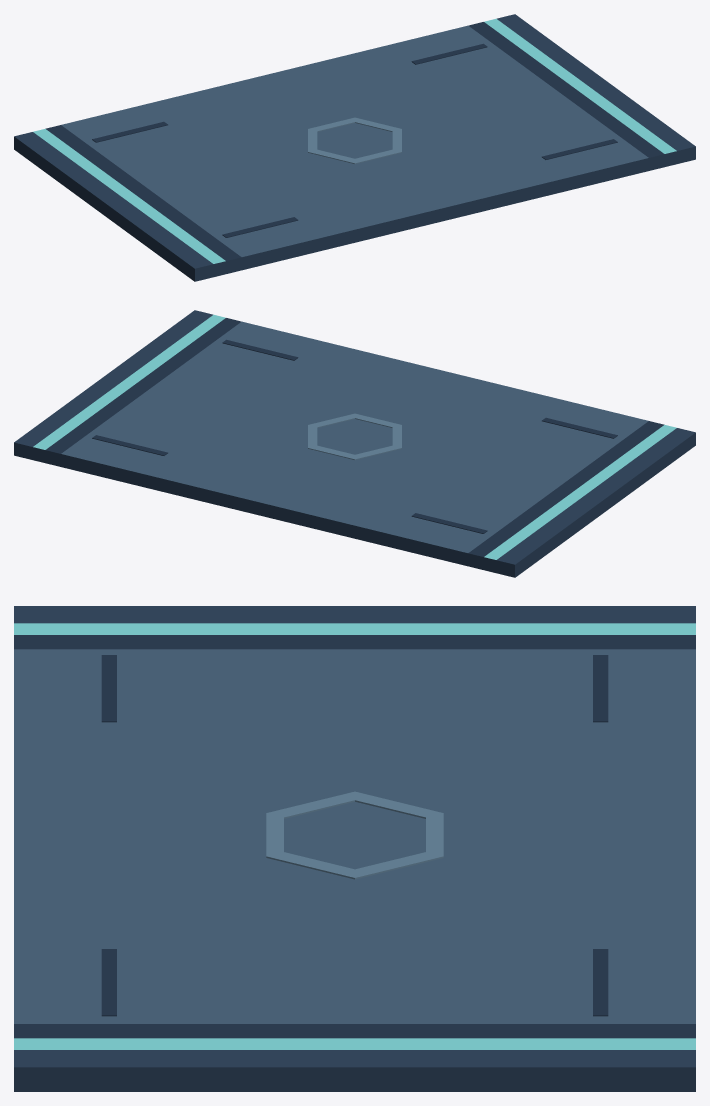
File: campus_walk_short_v01.glb
The picture shows the model from 3 angles, top to bottom: view 1: azimuth 30°, elevation 25°; view 2: azimuth 150°, elevation 25°; view 3: azimuth 270°, elevation 25°; orthographic projection. The views are drawn at different scales.
Visible parts, largest first — view 1: campus_walk_short; view 2: campus_walk_short; view 3: campus_walk_short.
Part boxes in pixels (x1,y1,x2,y2): campus_walk_short: (14,14,695,281); campus_walk_short: (14,310,695,577); campus_walk_short: (14,606,695,1091).
Bounding box in the file's own units: 3.2 × 0.086 × 2.
1 material, 1 textured.
